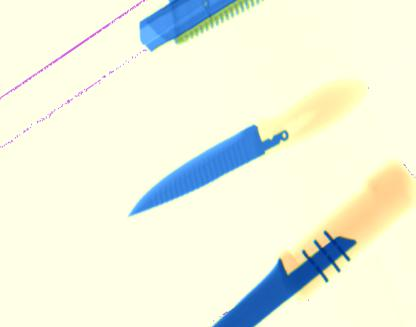Knife: (127, 78, 293, 218), (210, 218, 364, 327), (136, 1, 265, 53)
